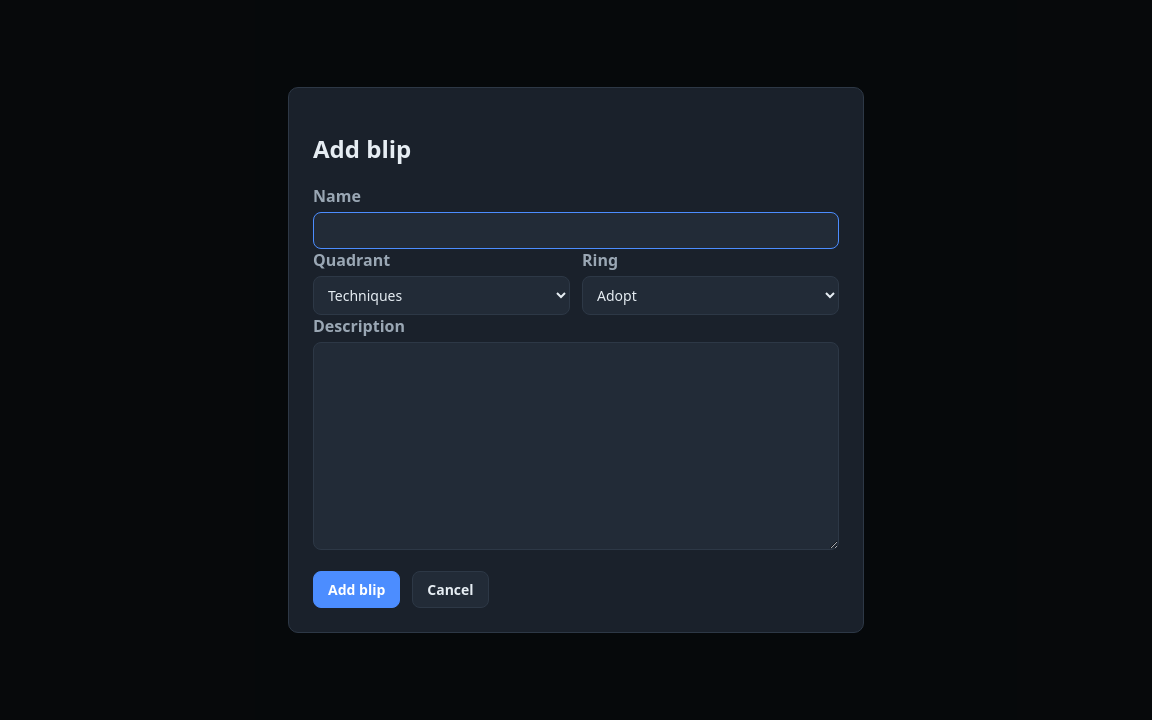
Scenario: AddBlipDrawer › disables the submit button while the request is pending
The image size is (1152, 720).
Type "Service Mesh" into the field labelled "Name" at (576, 230), box [313,212,839,249]
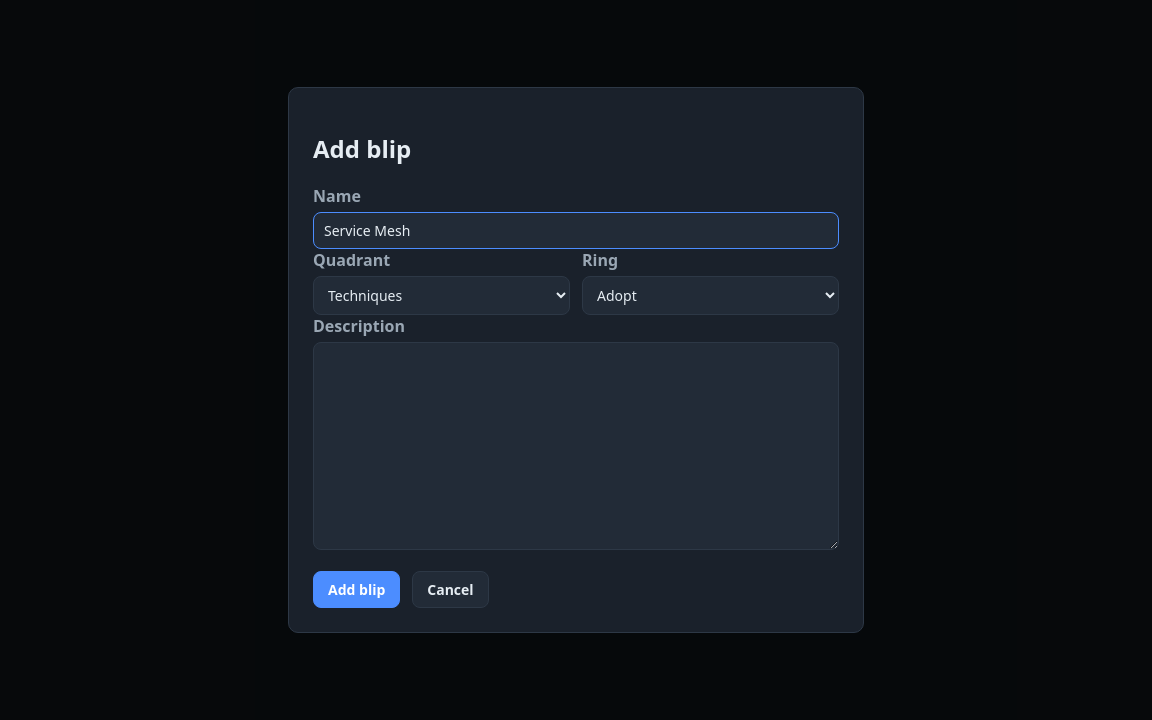
Type "A mesh." into the text box labelled "Description" at (576, 446), box [313,342,839,550]
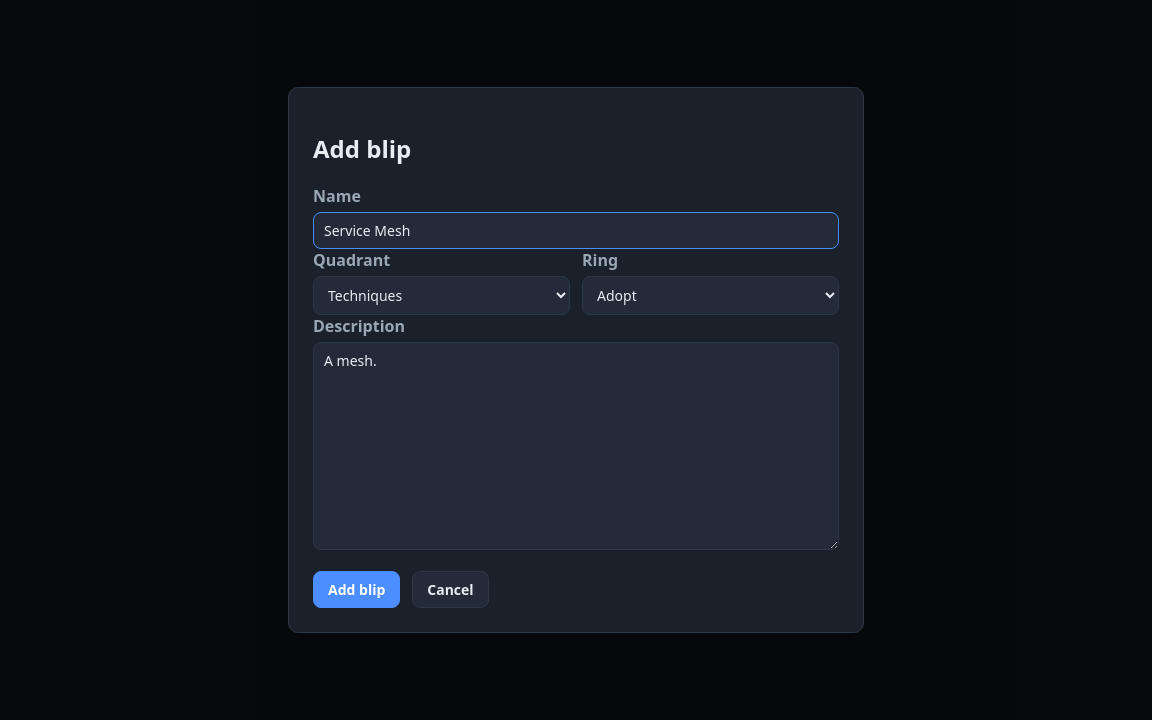
Click the button "Add blip" at (357, 589), box [313,571,400,608]
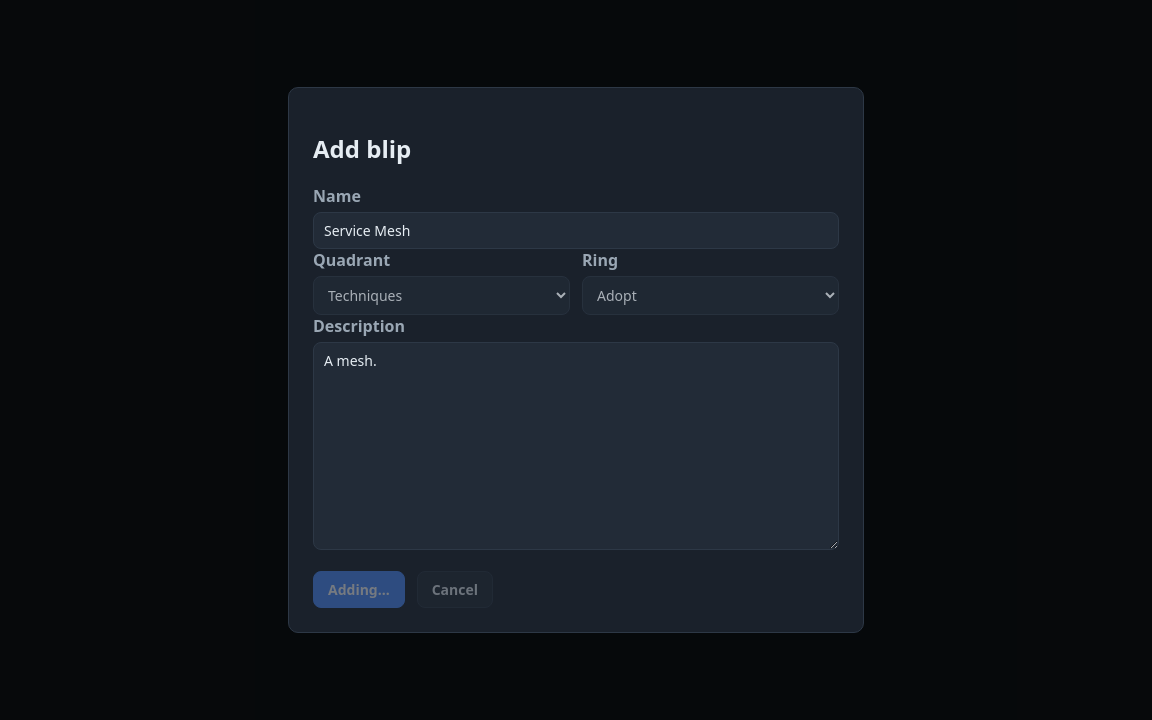
Now the button "Adding…" is disabled, box [313,571,405,608]
